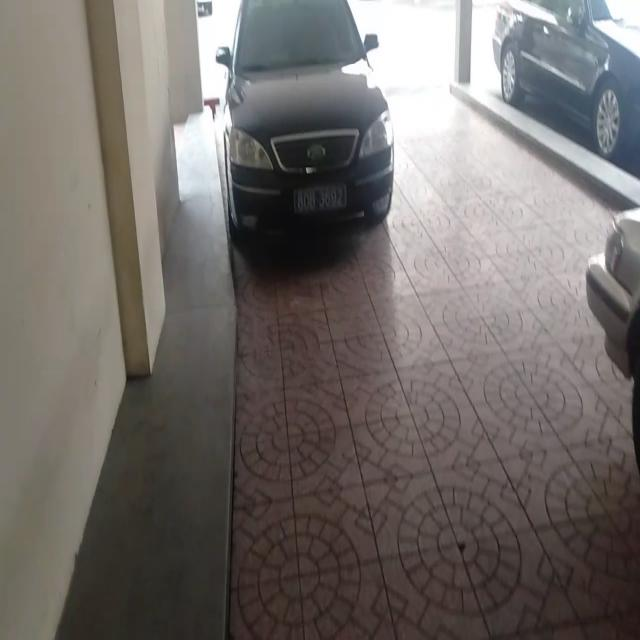bien_xanh: (294, 184, 348, 215)
